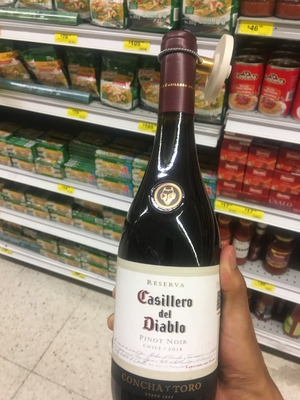casillero del diablo pinot noir: (102, 51, 235, 400)
